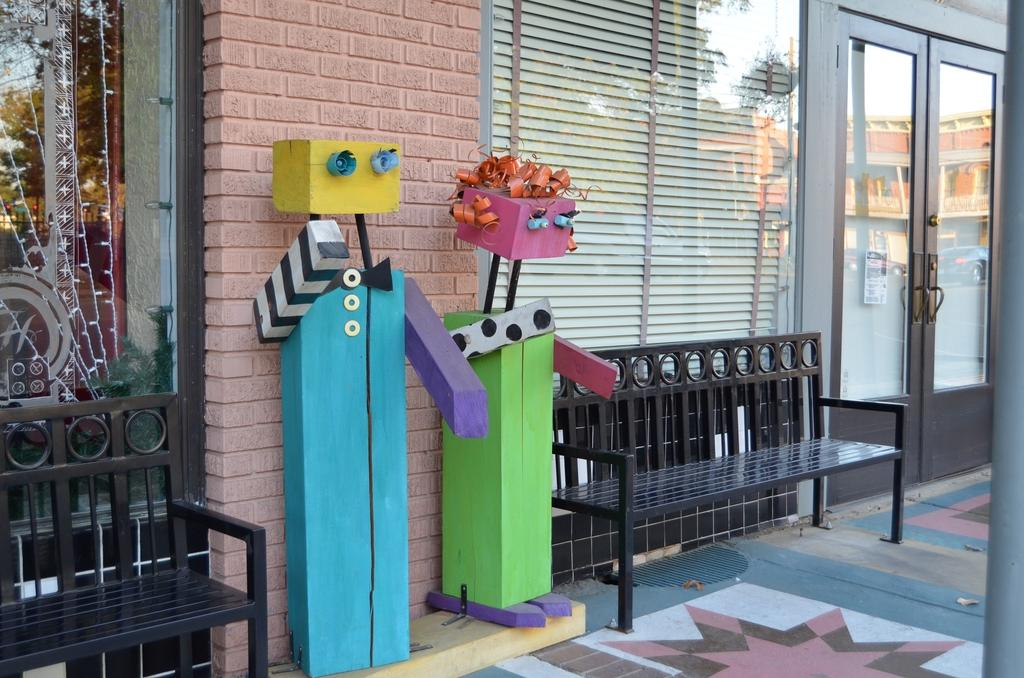handle: (931, 279, 945, 324), (916, 279, 930, 323)
